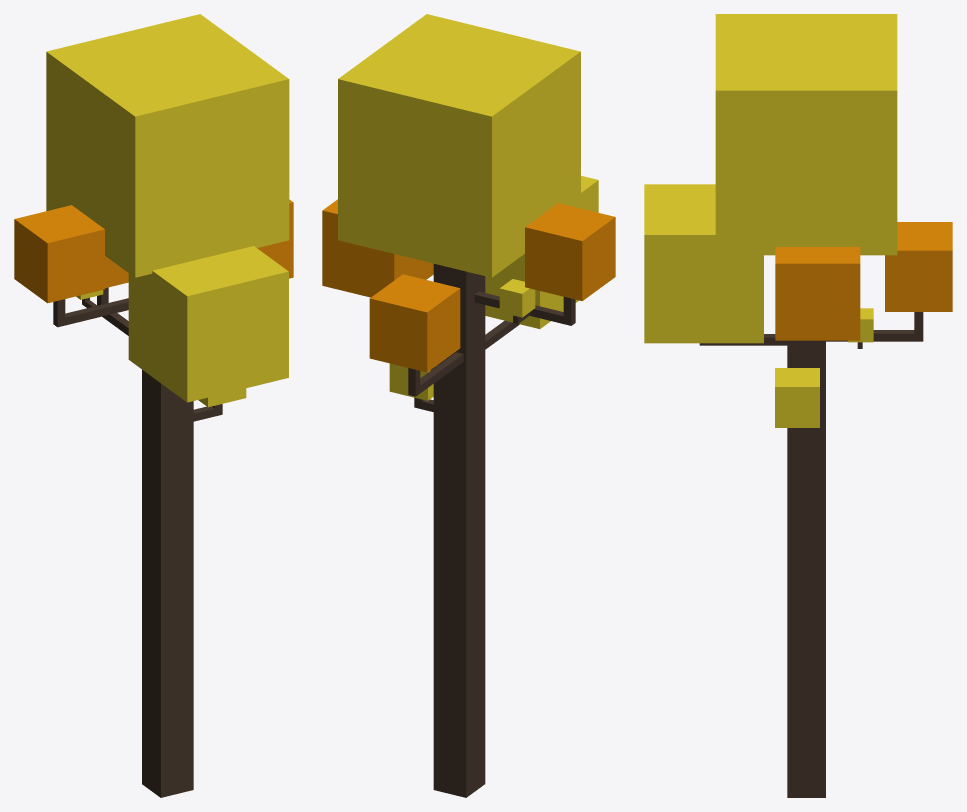
File: Yellow_Tree-With-Texture.fbx
The picture shows the model from 3 angles, left to right: view 1: azimuth 30°, elevation 25°; view 2: azimuth 150°, elevation 25°; view 3: azimuth 270°, elevation 25°; orthographic projection. The views are drawn at different scales.
Parts seen in each view (by area): view 1: Tree_3; view 2: Tree_3; view 3: Tree_3.
Boxes of the visible parts, x1=… form: Tree_3: x1=14, y1=14, x2=293, y2=797; Tree_3: x1=322, y1=14, x2=615, y2=797; Tree_3: x1=644, y1=14, x2=952, y2=797.
Bounding box in the file's own units: 564 × 1565 × 594.
1 material, 1 textured.
